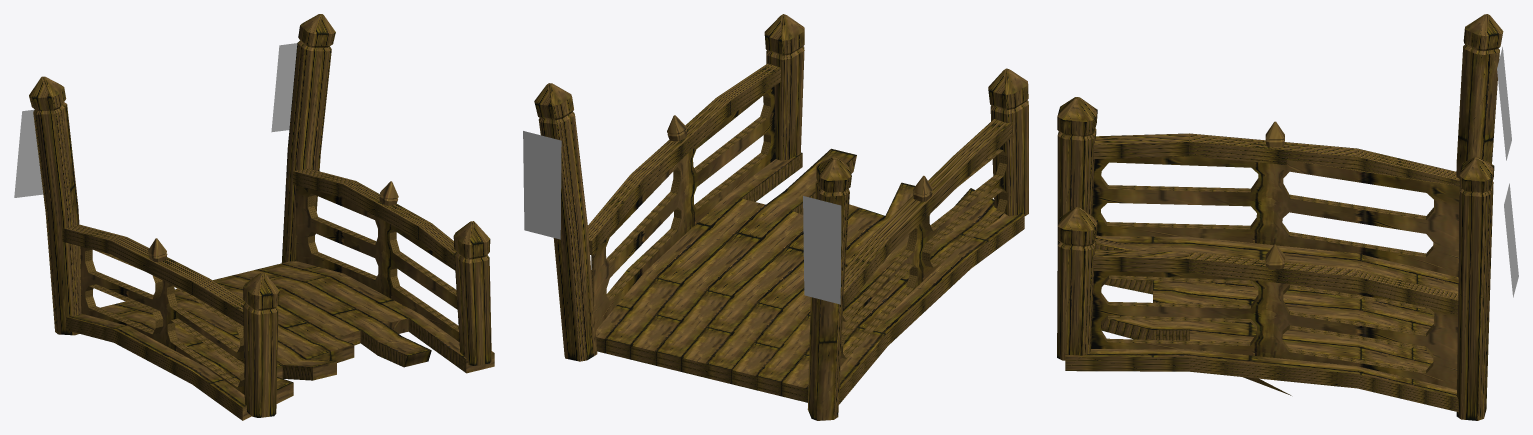
The model's file is BrokenBridge_Sud.fbx.
3 views of the same model, side by side, from view 1: azimuth 30°, elevation 25°; view 2: azimuth 150°, elevation 25°; view 3: azimuth 270°, elevation 25° (orthographic). The views are drawn at different scales.
Visible parts, largest first — view 1: polySurface43; view 2: polySurface43; view 3: polySurface43.
Part boxes in pixels (x1,y1,x2,y2): polySurface43: (14,14,494,420); polySurface43: (523,14,1028,420); polySurface43: (1057,14,1518,420).
Bounding box in the file's own units: 6.95 × 5.53 × 8.55.
